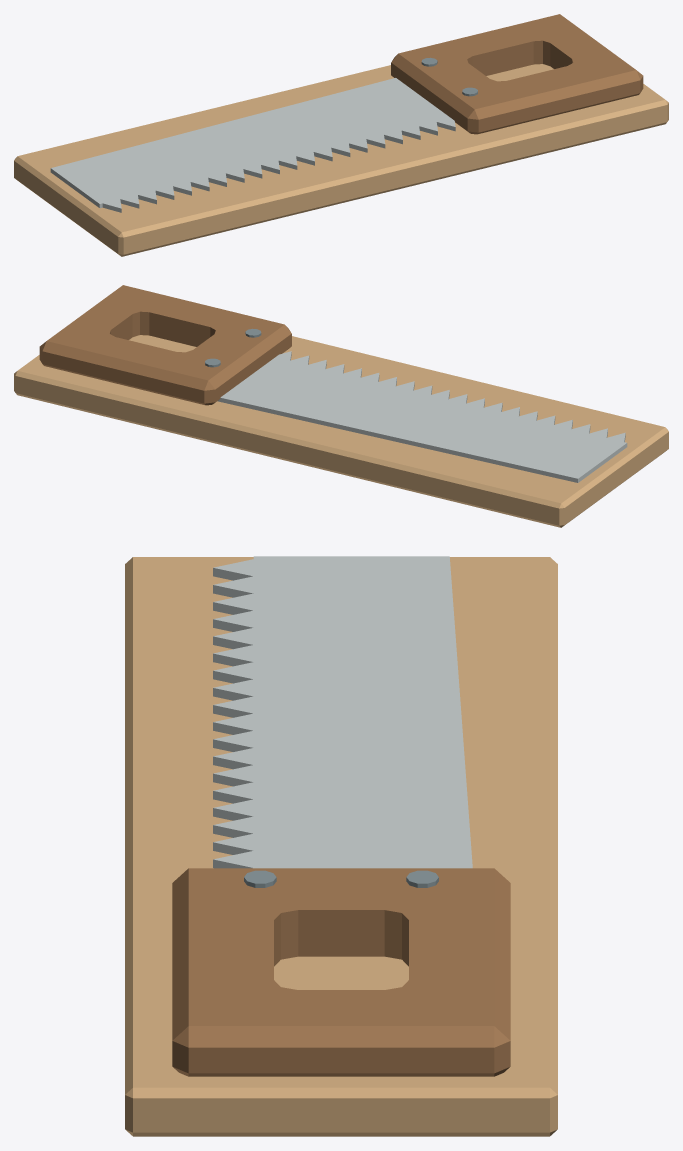
3 views of the same model, one above another, from view 1: azimuth 30°, elevation 25°; view 2: azimuth 150°, elevation 25°; view 3: azimuth 270°, elevation 25° (orthographic). The views are drawn at different scales.
Parts seen in each view (by area): view 1: carpentry-handsaw-01; view 2: carpentry-handsaw-01; view 3: carpentry-handsaw-01.
Part boxes in pixels (x1,y1,x2,y2): carpentry-handsaw-01: [14, 14, 668, 256]; carpentry-handsaw-01: [14, 285, 668, 527]; carpentry-handsaw-01: [125, 556, 557, 1136].
Bounding box in the file's own units: 0.94 × 0.0815 × 0.32.
